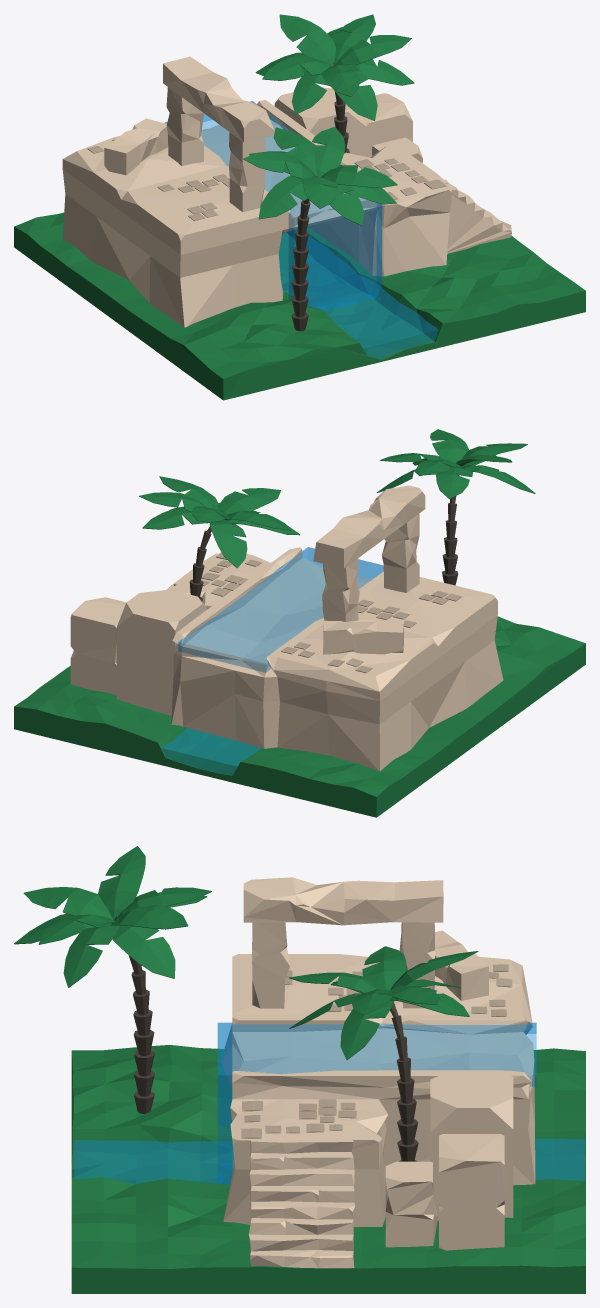
The model's file is ruinsunwrapped.glb.
3 renders of one model, top to bottom at view 1: azimuth 30°, elevation 25°; view 2: azimuth 150°, elevation 25°; view 3: azimuth 270°, elevation 25°, orthographic. The views are drawn at different scales.
Parts seen in each view (by area): view 1: Ground - U, Ruin.001 - u, waterfall - u, water - u, Pillar.004 - u, Stairs - u, Ruin.002 - u, Pillar.001 - u, Pillar - u, Pillar.003 - u, Ruin.003 - u, palm.002 - u (+17 smaller); view 2: Ruin.001 - u, Ground - U, waterfall - u, Ruin.002 - u, Pillar.004 - u, Ruin.003 - u, water - u, Pillar - u, Pillar.001 - u, Pillar.003 - u, leaf.004, leaf.006 (+11 smaller); view 3: Ground - U, Ruin.001 - u, waterfall - u, Stairs - u, Pillar.004 - u, water - u, Ruin.003 - u, Ruin.002 - u, Ruin - u, Pillar.001 - u, palm.002 - u, Pillar - u (+17 smaller).
Boxes of the visible parts, bbox=[...] form: Ground - U: bbox=[14, 212, 585, 400]; Ruin.001 - u: bbox=[62, 100, 451, 327]; waterfall - u: bbox=[165, 101, 382, 310]; water - u: bbox=[279, 229, 438, 358]; Pillar.004 - u: bbox=[163, 56, 274, 142]; Stairs - u: bbox=[402, 152, 511, 253]; Ruin.002 - u: bbox=[274, 87, 366, 156]; Pillar.001 - u: bbox=[229, 132, 265, 212]; Pillar - u: bbox=[104, 118, 168, 175]; Pillar.003 - u: bbox=[166, 87, 203, 166]; Ruin.003 - u: bbox=[363, 93, 412, 157]; palm.002 - u: bbox=[291, 176, 317, 331]; Ruin.001 - u: bbox=[170, 547, 503, 771]; Ground - U: bbox=[14, 616, 585, 817]; waterfall - u: bbox=[178, 547, 383, 672]; Ruin.002 - u: bbox=[116, 589, 207, 715]; Pillar.004 - u: bbox=[313, 485, 425, 568]; Ruin.003 - u: bbox=[70, 597, 126, 695]; water - u: bbox=[161, 728, 260, 774]; Pillar - u: bbox=[323, 620, 403, 654]; Pillar.001 - u: bbox=[381, 513, 419, 592]; Pillar.003 - u: bbox=[322, 558, 359, 621]; leaf.004: bbox=[209, 520, 247, 568]; leaf.006: bbox=[217, 488, 280, 514]; Ground - U: bbox=[71, 1045, 585, 1293]; Ruin.001 - u: bbox=[221, 954, 535, 1226]; waterfall - u: bbox=[217, 1022, 536, 1184]; Stairs - u: bbox=[248, 1139, 354, 1268]; Pillar.004 - u: bbox=[243, 877, 443, 925]; water - u: bbox=[74, 1139, 584, 1184]; Ruin.003 - u: bbox=[439, 1134, 504, 1250]; Ruin.002 - u: bbox=[430, 1073, 513, 1220]; Ruin - u: bbox=[385, 1161, 437, 1247]; Pillar.001 - u: bbox=[252, 922, 289, 1008]; palm.002 - u: bbox=[114, 916, 154, 1113]; Pillar - u: bbox=[435, 930, 488, 1000].
Size of what is drawn, in the model's own units: 8.01 by 4.47 by 8.9.
